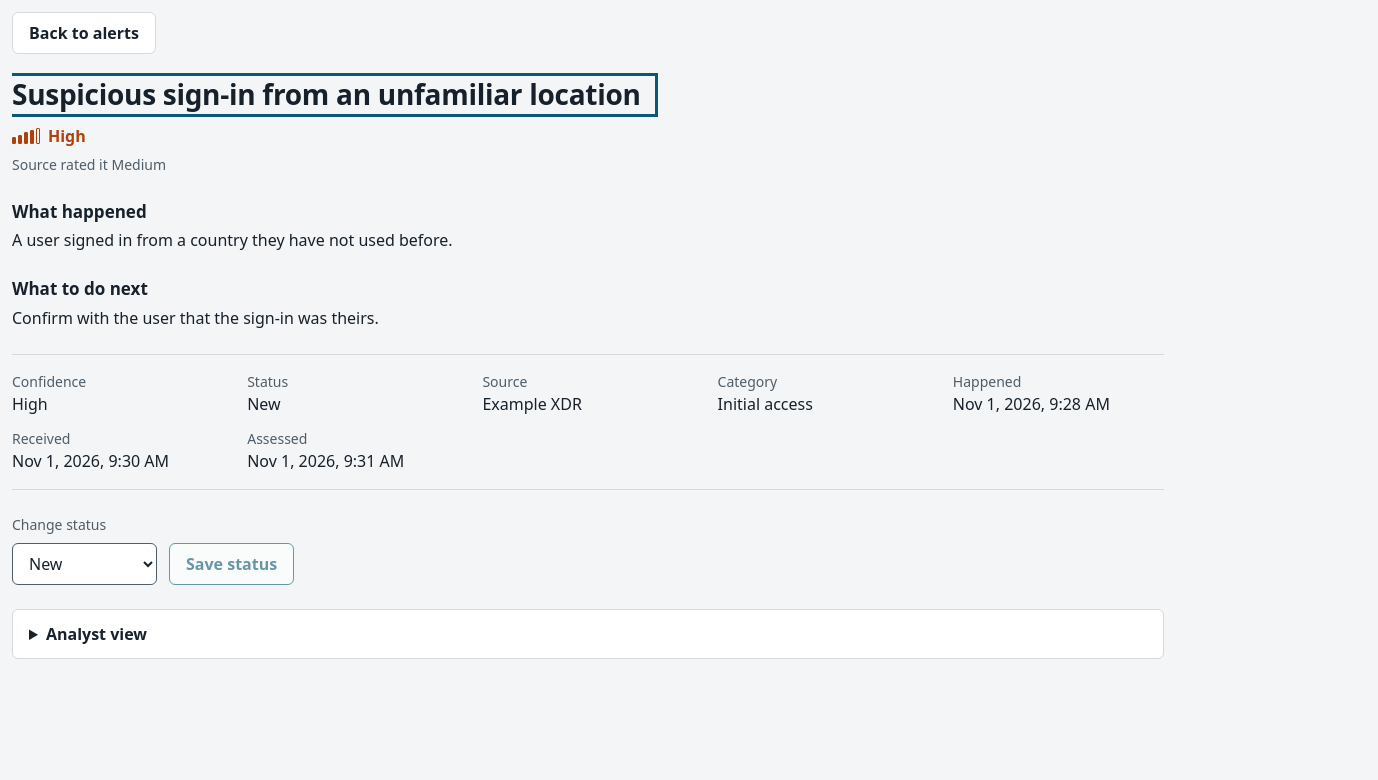
Scenario: AlertDetailView › shows an error state for a server failure
The image size is (1378, 780).
Select "Dismissed" in the dropdown labelled "Change status": (84, 564) 12,543 -> 157,585
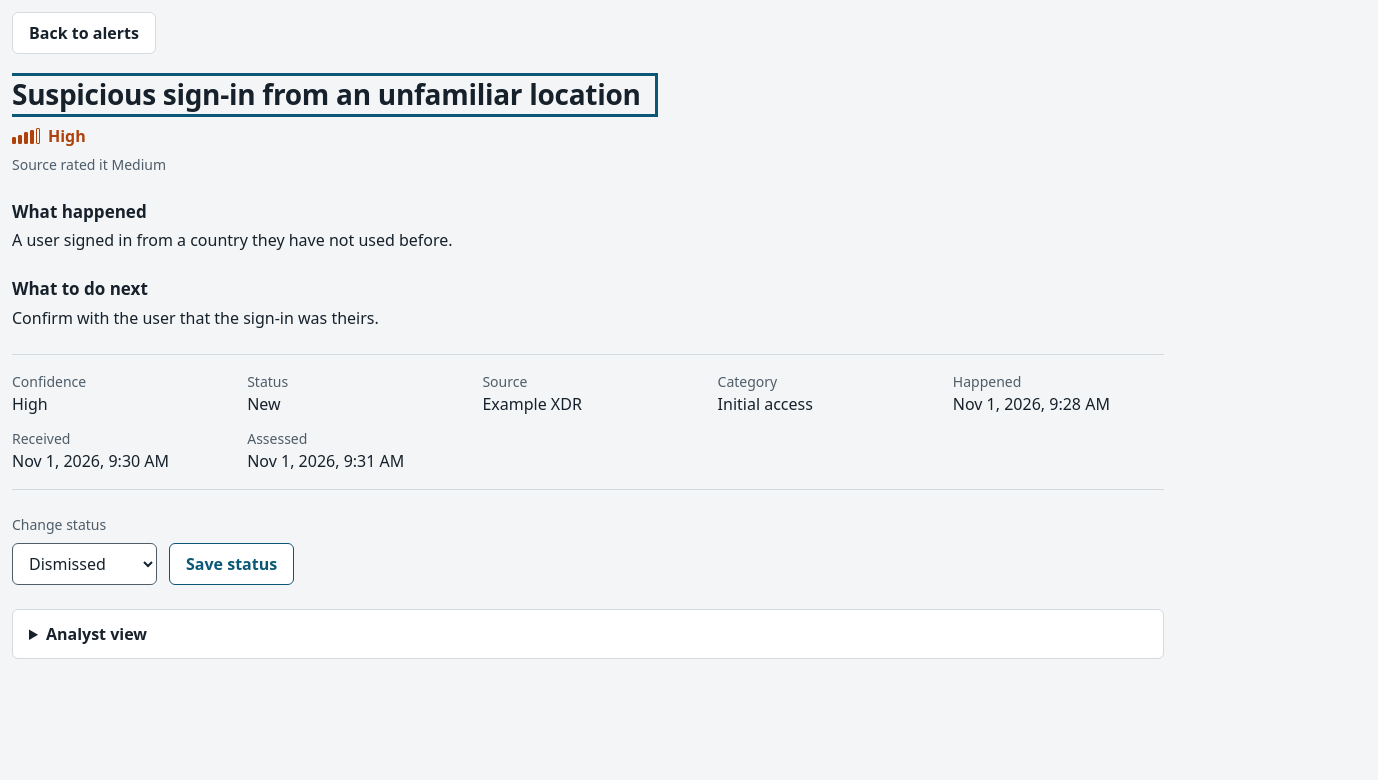
Click the button "Save status": (232, 564) 169,543 -> 294,585
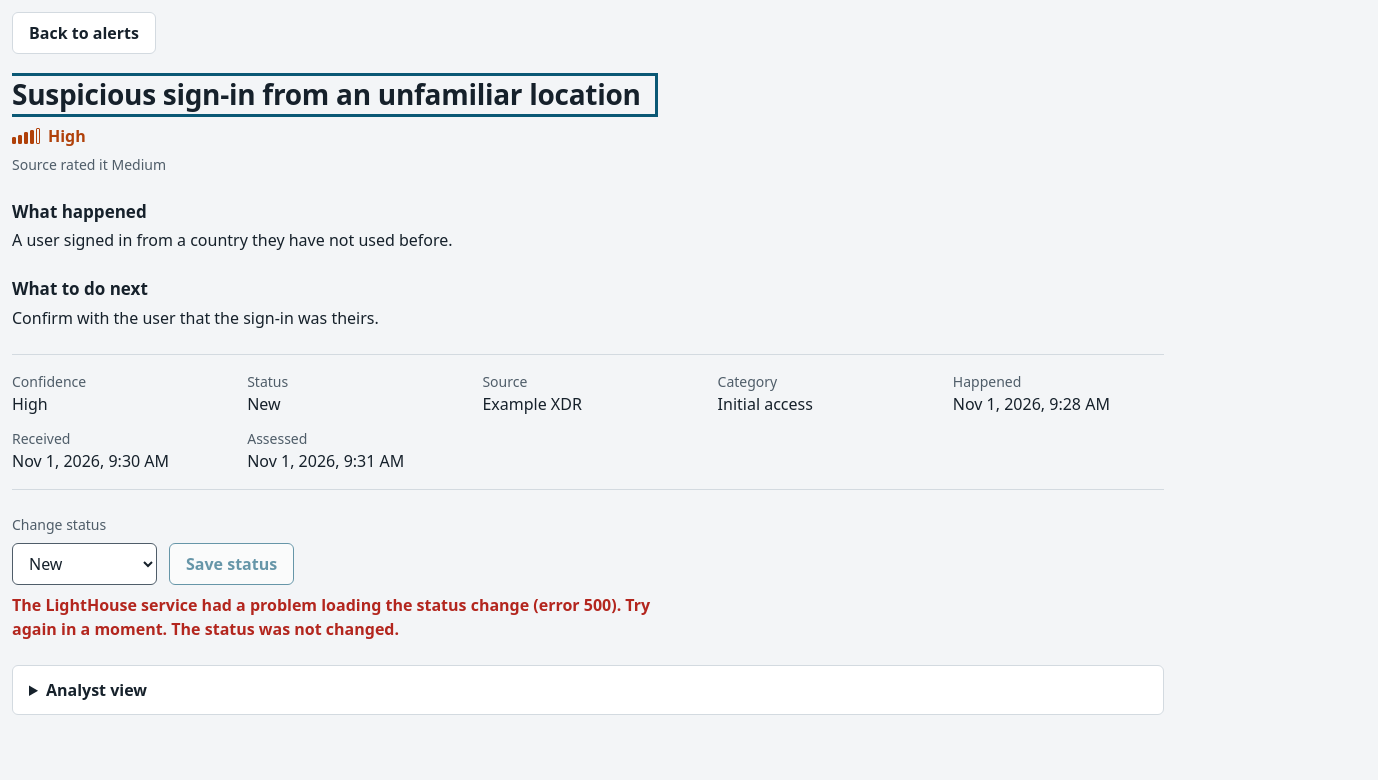
Result: the message shows "error 500" at 12,594 -> 650,640
